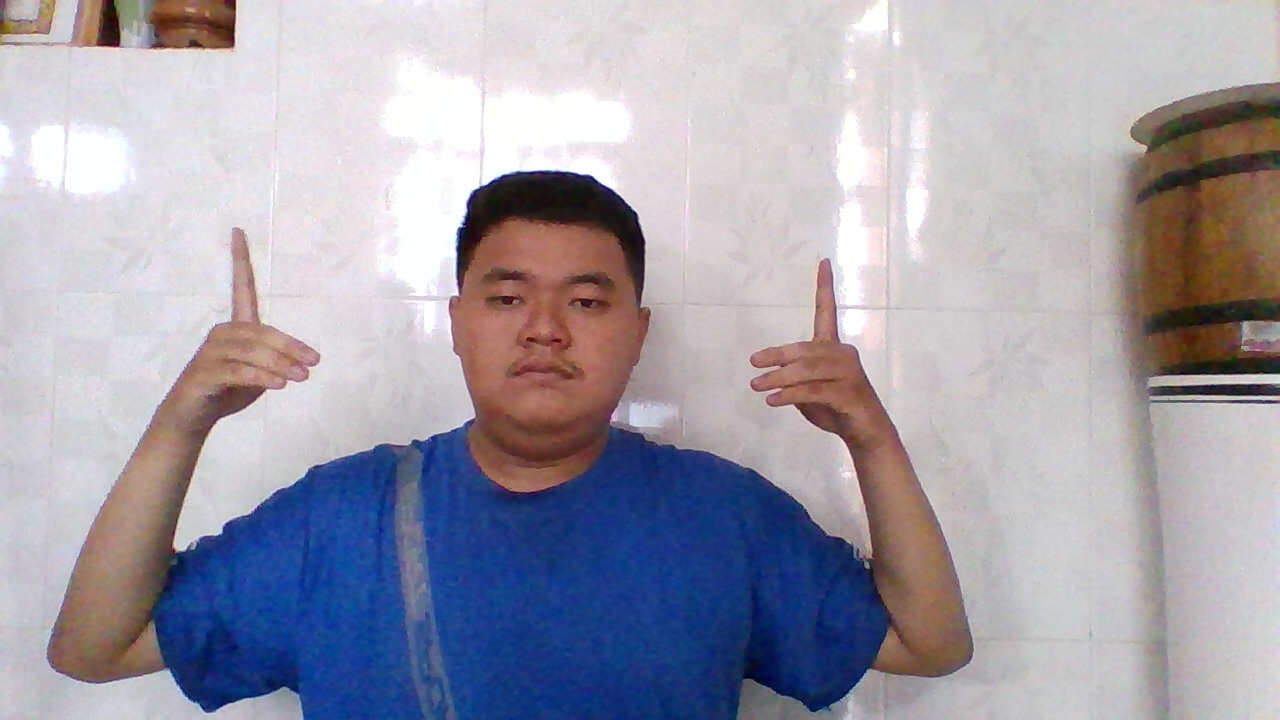D: (171, 218, 329, 445), (734, 249, 886, 457)
